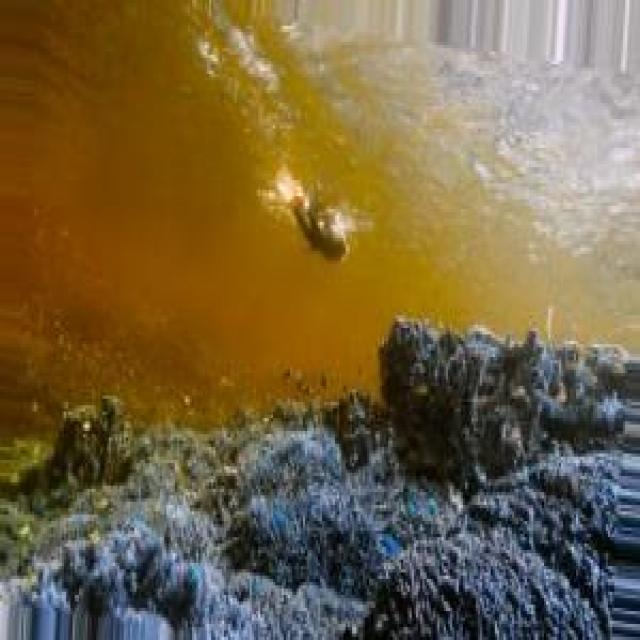Healthy: (2, 321, 640, 640)
